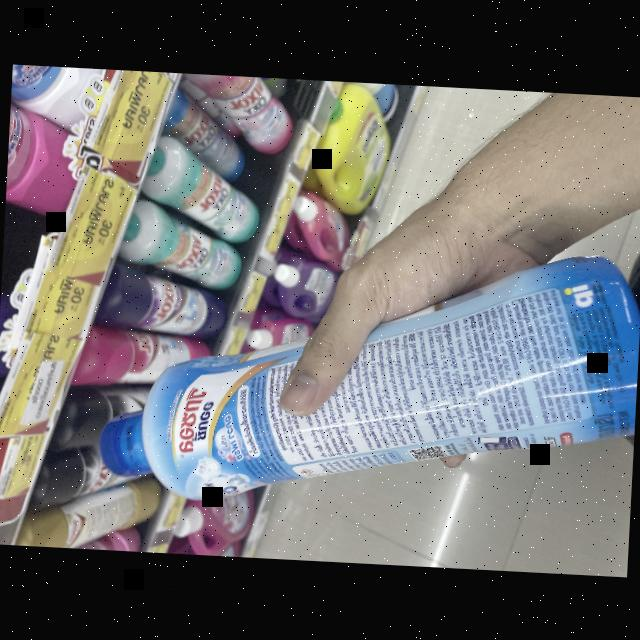chemical_plastic_bottle: (84, 228, 640, 525)
